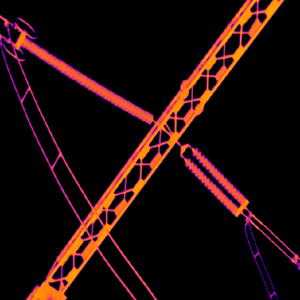insulator: (21, 34, 153, 124), (191, 144, 246, 206), (183, 155, 238, 215)
